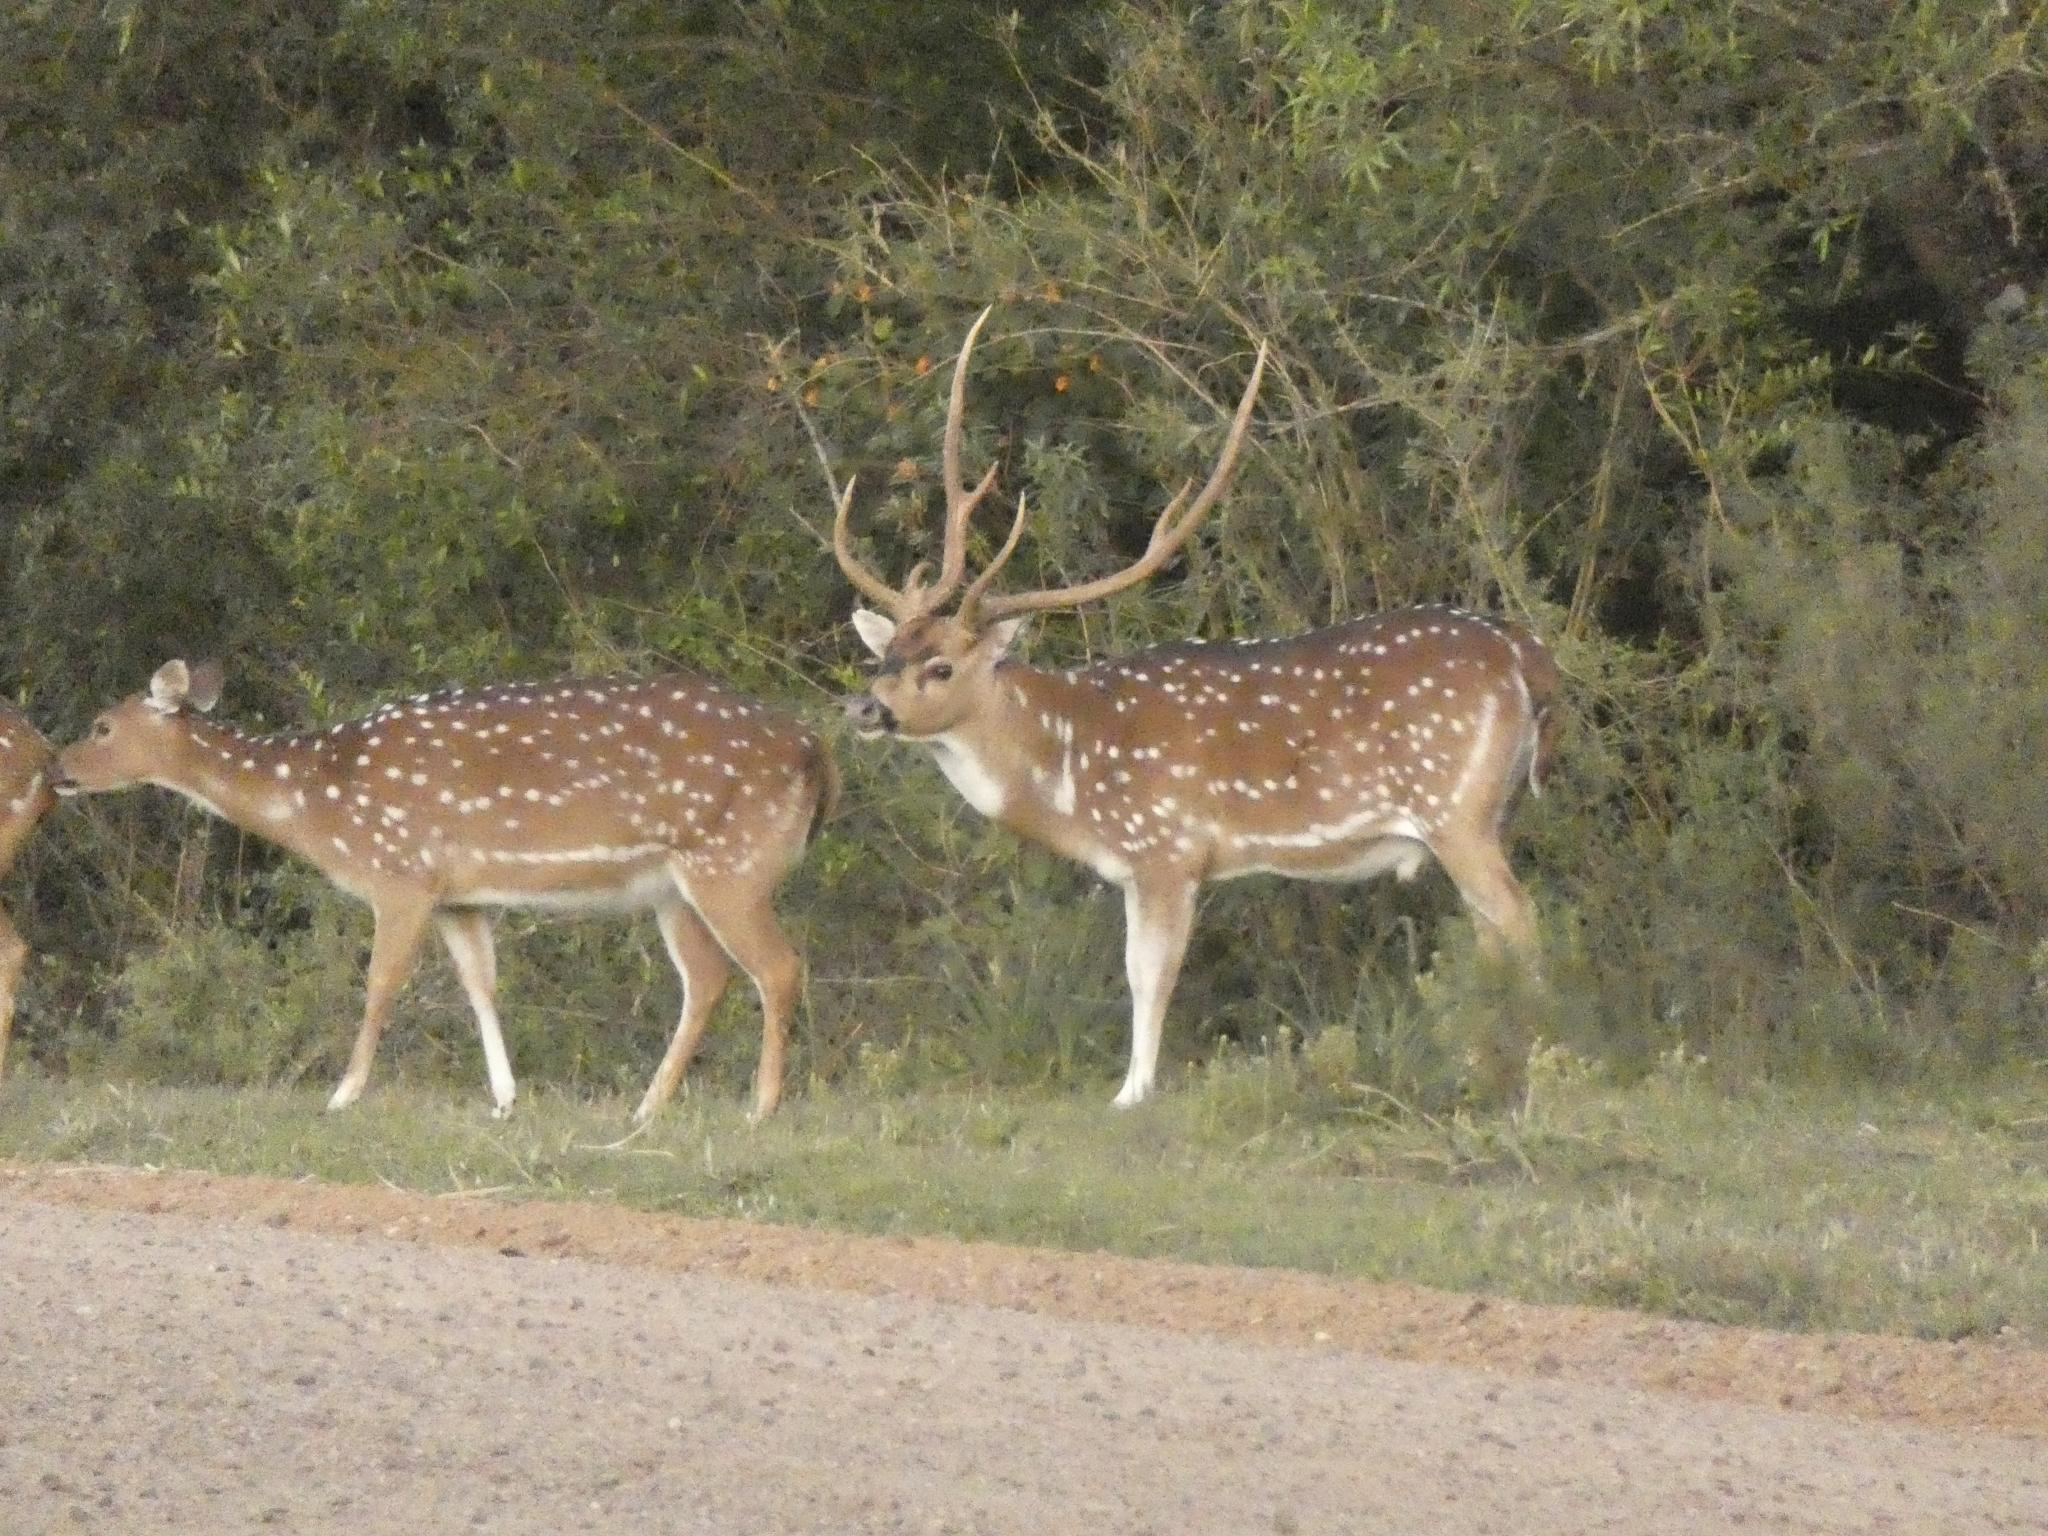Deer: (832, 308, 1558, 1107), (47, 660, 839, 1121)
